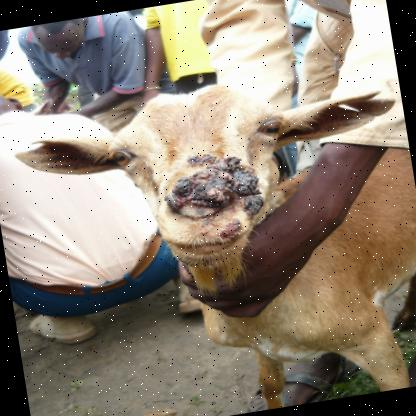ppr: (171, 165, 263, 222)
